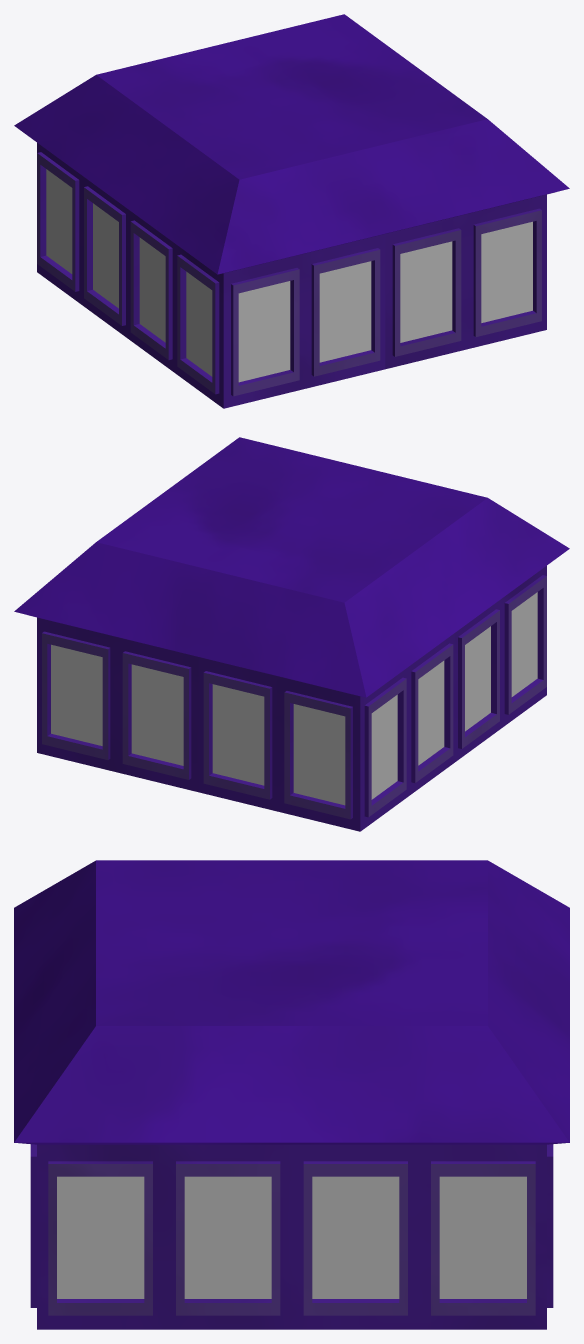
Rendered from SM_ModularTopBuilding2.fbx.
3 renders of one model, top to bottom at view 1: azimuth 30°, elevation 25°; view 2: azimuth 150°, elevation 25°; view 3: azimuth 270°, elevation 25°, orthographic. The views are drawn at different scales.
Visible parts, largest first — view 1: TopBuilding2; view 2: TopBuilding2; view 3: TopBuilding2.
Boxes of the visible parts, x1=… form: TopBuilding2: x1=14, y1=14, x2=569, y2=408; TopBuilding2: x1=14, y1=437, x2=569, y2=831; TopBuilding2: x1=14, y1=860, x2=569, y2=1329.
Size of the model in its own units: 10.9 by 6.03 by 10.9.
